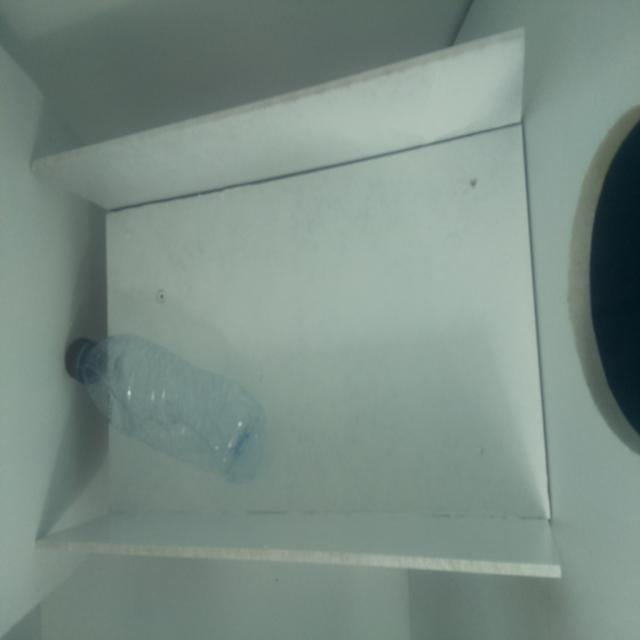Anorganik: (64, 321, 264, 487)
